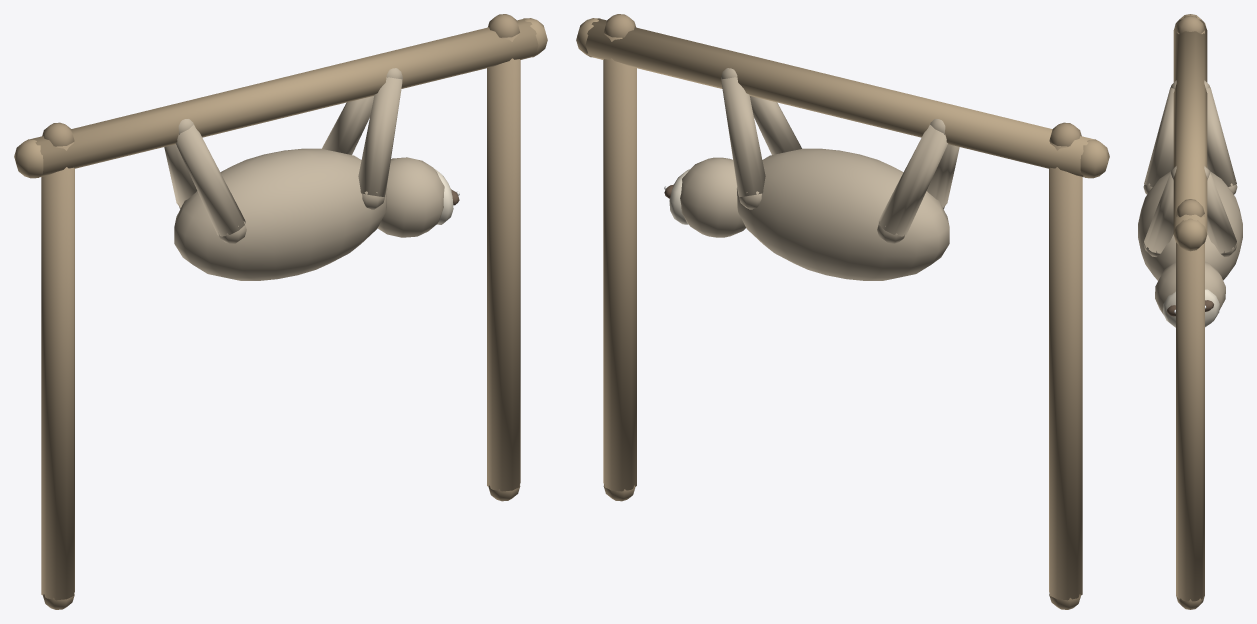
The model's file is two-toed-sloth.glb.
3 renders of one model, left to right at view 1: azimuth 30°, elevation 25°; view 2: azimuth 150°, elevation 25°; view 3: azimuth 270°, elevation 25°, orthographic. The views are drawn at different scales.
Visible parts, largest first — view 1: e, e.006, e.015; view 2: e, e.006, e.015; view 3: e, e.006, e.015.
Part boxes in pixels (box(x1,y1,x2,y2)): e: box(14, 14, 547, 609); e.006: box(164, 68, 402, 280); e.015: box(377, 157, 459, 237); e: box(576, 14, 1109, 609); e.006: box(721, 68, 959, 280); e.015: box(664, 157, 745, 237); e: box(1173, 14, 1207, 609); e.006: box(1138, 80, 1242, 280); e.015: box(1155, 262, 1225, 327).
Size of the model in its own units: 2.14 by 1.87 by 0.4355.
